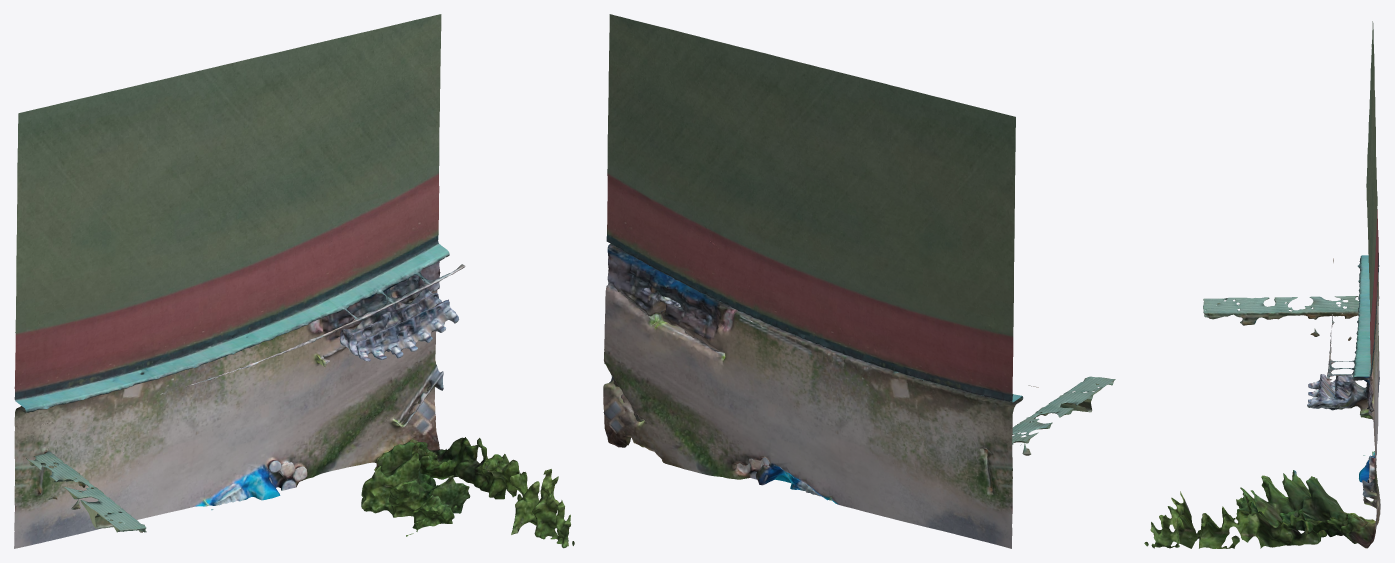
Rendered from Tile_+016_+004.fbx.
The picture shows the model from 3 angles, left to right: view 1: azimuth 30°, elevation 25°; view 2: azimuth 150°, elevation 25°; view 3: azimuth 270°, elevation 25°; orthographic projection. The views are drawn at different scales.
Visible parts, largest first — view 1: DefaultName; view 2: DefaultName; view 3: DefaultName.
Boxes of the visible parts, x1,y1,x2,y2 form: DefaultName: (14, 14, 574, 548); DefaultName: (603, 14, 1115, 548); DefaultName: (1144, 21, 1380, 548).
Bounding box in the file's own units: 22.54 × 22.54 × 13.24.
